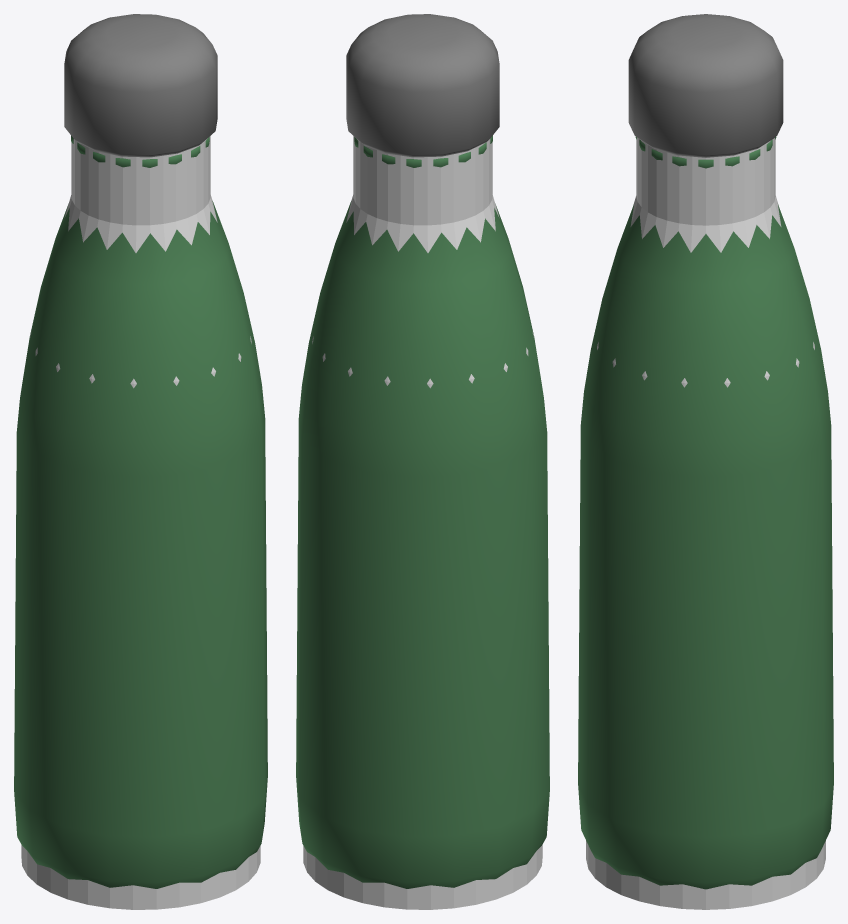
Rendered from waterbottle.glb.
The picture shows the model from 3 angles, left to right: view 1: azimuth 30°, elevation 25°; view 2: azimuth 150°, elevation 25°; view 3: azimuth 270°, elevation 25°; orthographic projection.
Parts seen in each view (by area): view 1: Plane, Cylinder; view 2: Plane, Cylinder; view 3: Plane, Cylinder.
Part boxes in pixels (x1,y1,x2,y2): Plane: (14,14,267,888); Cylinder: (21,136,260,909); Plane: (296,14,549,888); Cylinder: (303,136,542,909); Plane: (578,14,833,889); Cylinder: (586,138,825,909).
Size of the model in its own units: 1.08 by 3.88 by 1.08.
